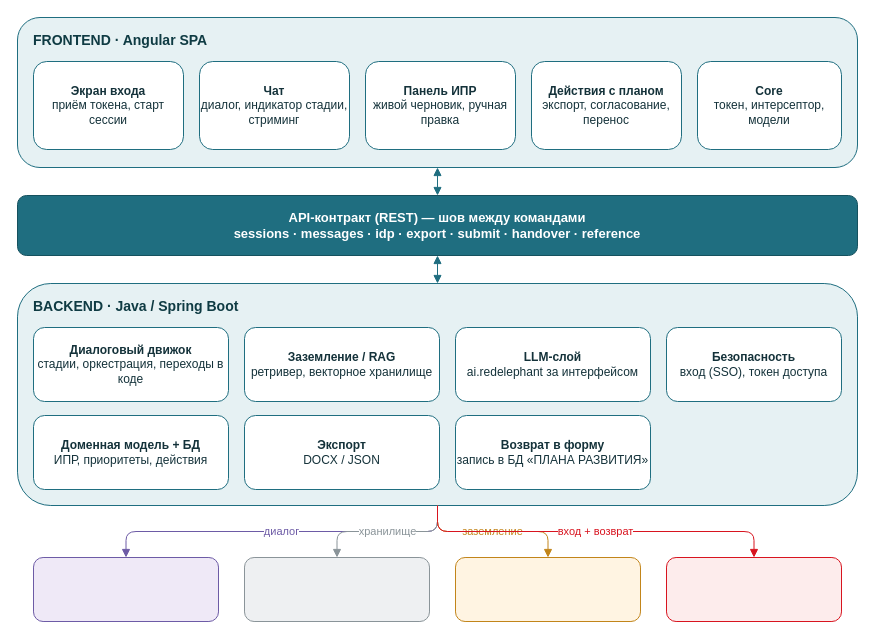
Some shapes in this 875 by 639 pixel diagram are drawn without their labels. Here are the shapes that lost their labels. From the top down, the centre of each, then its label:
At [125,589]: "ai.redelephant (внутренняя LLM)".
At [337,589]: "PostgreSQL + векторное хранилище".
At [547,589]: "Справочники компании ДИ, компетенции, активности".
At [754,589]: "Сервис «ПЛАН РАЗВИТИЯ» вход + возврат плана".
